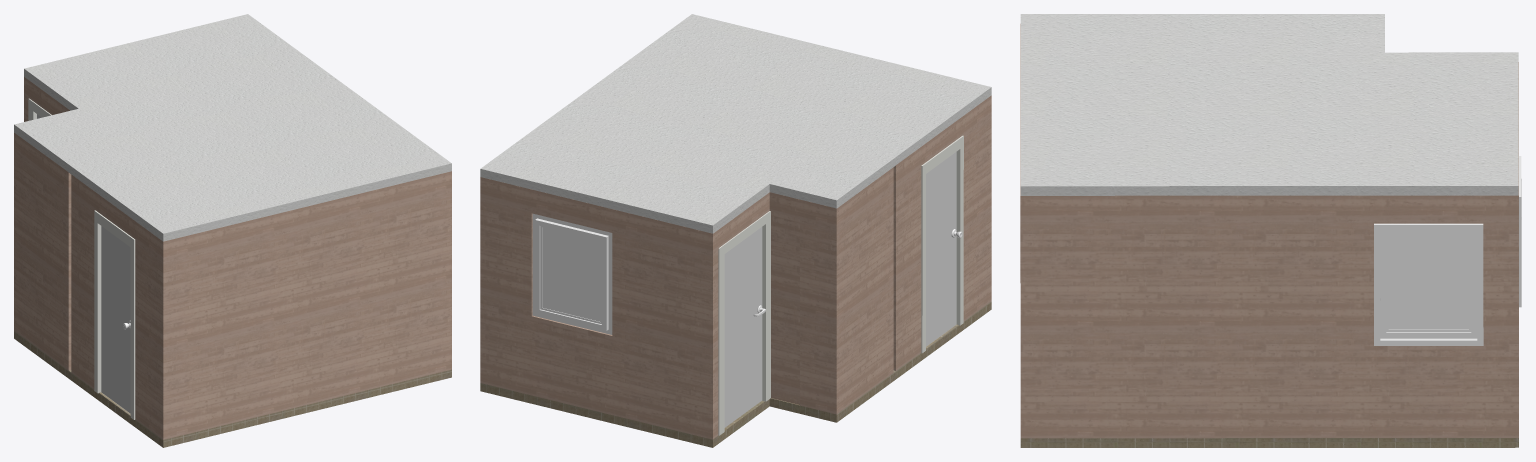
Rendered from FloorPlan413_physics.fbx.
3 views of the same model, side by side, from view 1: azimuth 30°, elevation 25°; view 2: azimuth 150°, elevation 25°; view 3: azimuth 270°, elevation 25° (orthographic). The views are drawn at different scales.
Parts seen in each view (by area): view 1: FP413:Walls, FP413:Ceiling, FP413:Door.008, FP413:Floor, FP413:DoorFrame.008; view 2: FP413:Walls, FP413:Ceiling, FP413:Door.007, FP413:Door.008, FP413:Floor, FP413:polySurface72, FP413:polySurface73, FP413:DoorFrame.007, FP413:DoorFrame.008; view 3: FP413:Walls, FP413:Ceiling, FP413:polySurface68, FP413:polySurface70, FP413:Floor.
Part boxes in pixels (<box>): FP413:Walls: <box>14,77,451,439</box>; FP413:Ceiling: <box>14,14,451,241</box>; FP413:Door.008: <box>101,226,130,413</box>; FP413:Floor: <box>14,331,451,447</box>; FP413:DoorFrame.008: <box>94,210,135,419</box>; FP413:Walls: <box>480,95,991,439</box>; FP413:Ceiling: <box>480,14,991,233</box>; FP413:Door.007: <box>724,227,762,427</box>; FP413:Door.008: <box>926,152,956,346</box>; FP413:Floor: <box>480,301,991,447</box>; FP413:polySurface72: <box>542,227,601,321</box>; FP413:polySurface73: <box>532,213,612,334</box>; FP413:DoorFrame.007: <box>718,211,770,435</box>; FP413:DoorFrame.008: <box>921,135,963,353</box>; FP413:Walls: <box>1020,24,1518,438</box>; FP413:Ceiling: <box>1020,14,1518,195</box>; FP413:polySurface68: <box>1388,235,1468,329</box>; FP413:polySurface70: <box>1374,223,1483,345</box>; FP413:Floor: <box>1020,438,1518,447</box>.
Bounding box in the file's own units: 343 × 238 × 412.
